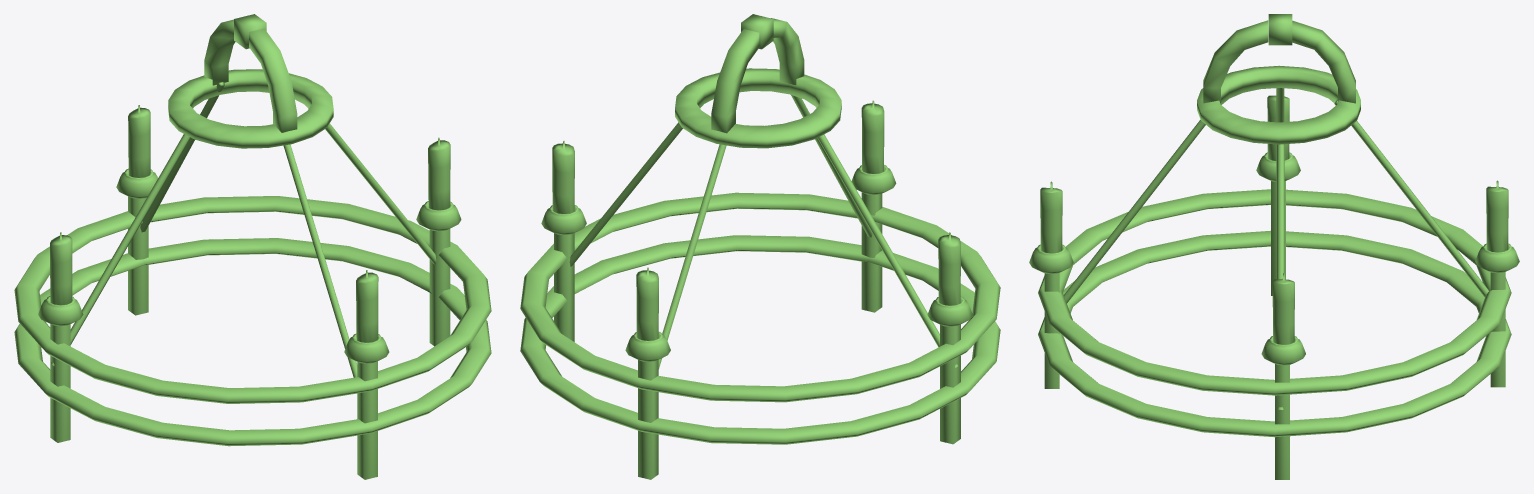
Rendered from Candle_Stick_01A_Lod0.fbx.
3 views of the same model, side by side, from view 1: azimuth 30°, elevation 25°; view 2: azimuth 150°, elevation 25°; view 3: azimuth 270°, elevation 25° (orthographic).
Parts seen in each view (by area): view 1: Candle_Stick_01A_Lod0; view 2: Candle_Stick_01A_Lod0; view 3: Candle_Stick_01A_Lod0.
Boxes of the visible parts, x1,y1,x2,y2 form: Candle_Stick_01A_Lod0: (14, 14, 491, 479); Candle_Stick_01A_Lod0: (520, 14, 1000, 479); Candle_Stick_01A_Lod0: (1029, 14, 1519, 479).
Bounding box in the file's own units: 146 × 123 × 150.
